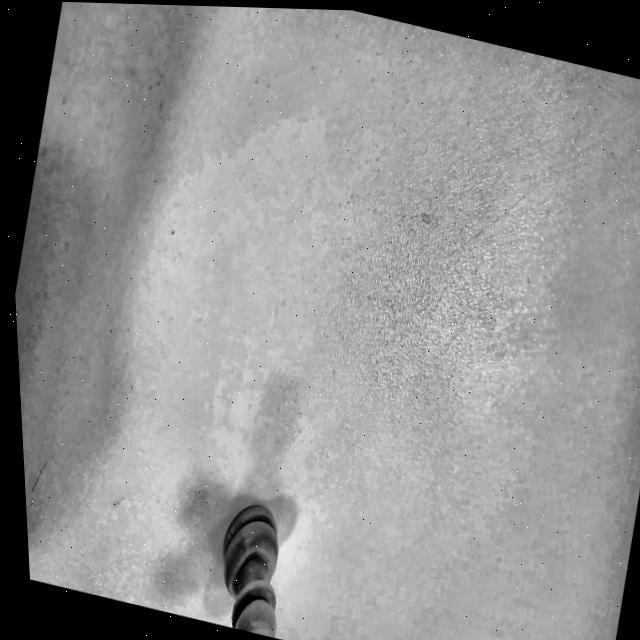white-pawn: (154, 485, 334, 640)
